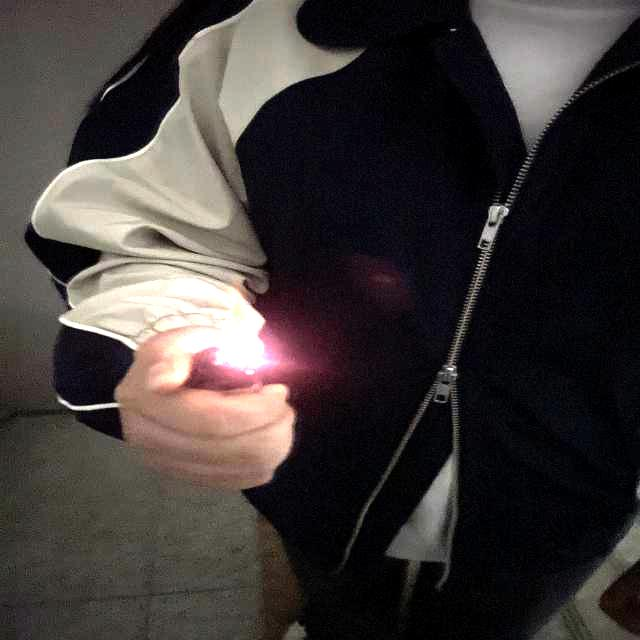fire: (230, 294, 258, 356)
